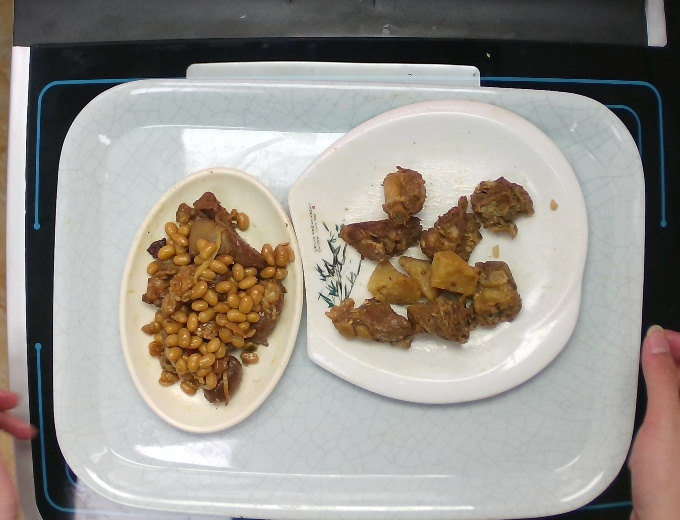JYsf-Mian_Pan: (283, 93, 593, 411)
JYsf-Tuo_Yuan_Wan: (115, 162, 306, 438)
